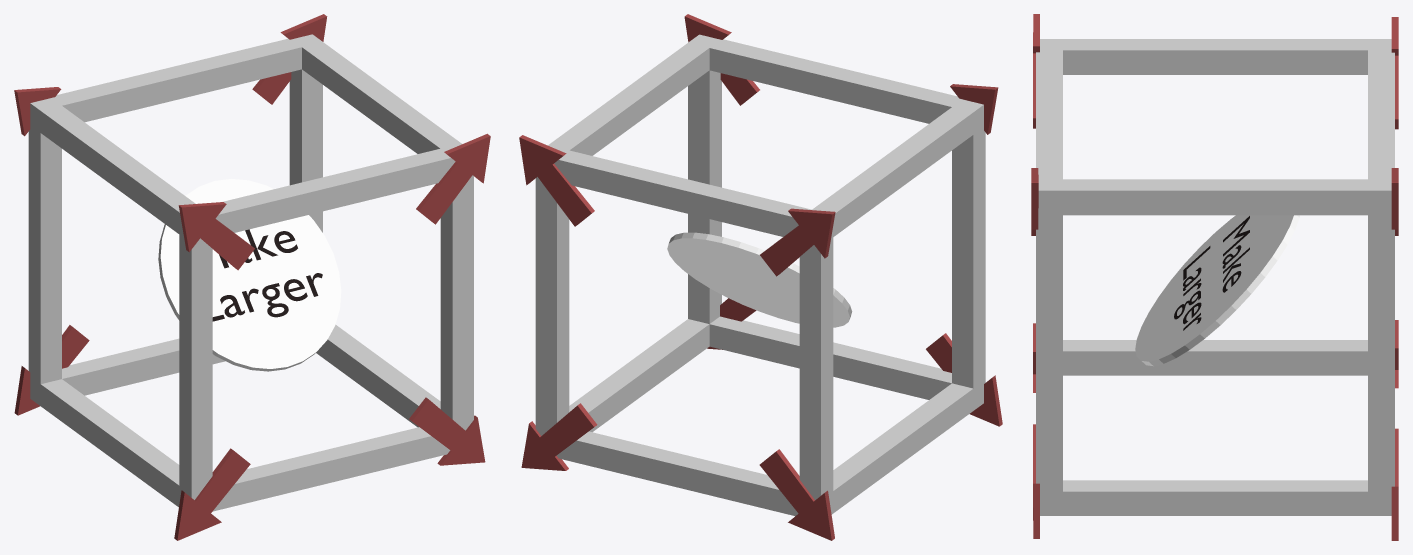
Rendered from MakeLarger.glb.
3 views of the same model, side by side, from view 1: azimuth 30°, elevation 25°; view 2: azimuth 150°, elevation 25°; view 3: azimuth 270°, elevation 25° (orthographic). The views are drawn at different scales.
Visible parts, largest first — view 1: Cube Frame.001, Cylinder.002, arrow.009, arrow.002, arrow.004, arrow.007, Text.002, arrow.003, arrow.001, arrow.006; view 2: Cube Frame.001, Cylinder.002, arrow.001, arrow.003, arrow.006, arrow.005, arrow.009, arrow.002, arrow.004; view 3: Cube Frame.001, Cylinder.002, Text.002, arrow.005, arrow.006, arrow.007, arrow.002, arrow.003, arrow.004.
Boxes of the visible parts, left/top/right/bottom form: Cube Frame.001: left=28, top=34, right=473, bottom=511; Cylinder.002: left=158, top=179, right=341, bottom=371; arrow.009: left=174, top=448, right=250, bottom=540; arrow.002: left=416, top=133, right=490, bottom=224; arrow.004: left=178, top=202, right=254, bottom=270; arrow.007: left=409, top=397, right=485, bottom=465; Text.002: left=212, top=229, right=322, bottom=321; arrow.003: left=252, top=14, right=327, bottom=104; arrow.001: left=14, top=325, right=89, bottom=415; arrow.006: left=14, top=87, right=61, bottom=136; Cube Frame.001: left=535, top=34, right=985, bottom=516; Cylinder.002: left=667, top=232, right=852, bottom=327; arrow.001: left=759, top=449, right=834, bottom=540; arrow.003: left=519, top=135, right=594, bottom=226; arrow.006: left=760, top=208, right=835, bottom=276; arrow.005: left=521, top=403, right=597, bottom=470; arrow.009: left=926, top=333, right=1002, bottom=426; arrow.002: left=684, top=14, right=759, bottom=105; arrow.004: left=950, top=84, right=998, bottom=134; Cube Frame.001: left=1036, top=39, right=1394, bottom=515; Cylinder.002: left=1135, top=215, right=1299, bottom=366; Text.002: left=1174, top=216, right=1249, bottom=330; arrow.005: left=1391, top=428, right=1398, bottom=540; arrow.006: left=1391, top=17, right=1398, bottom=129; arrow.007: left=1033, top=424, right=1039, bottom=538; arrow.002: left=1031, top=168, right=1038, bottom=235; arrow.003: left=1391, top=168, right=1398, bottom=235; arrow.004: left=1033, top=14, right=1039, bottom=128.
Bounding box in the file's own units: 2.21 × 2.25 × 2.05.
